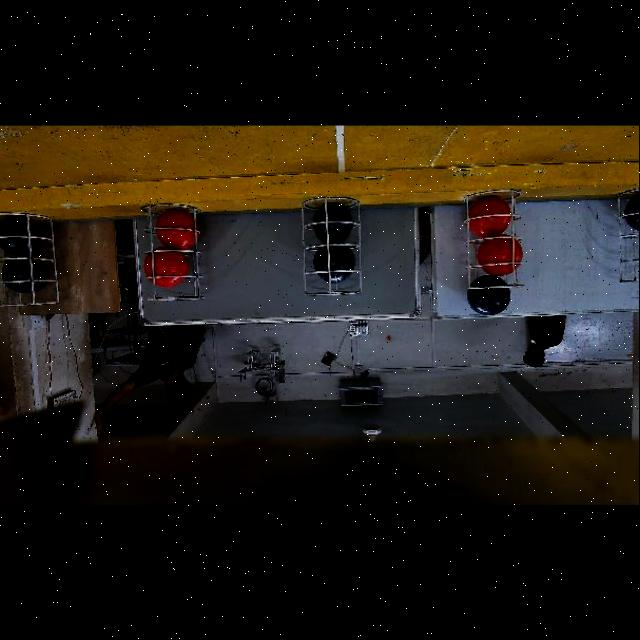P: (468, 275, 511, 316), (314, 243, 356, 284), (0, 219, 43, 258), (313, 204, 353, 245), (2, 260, 50, 293), (626, 194, 640, 232)
R: (469, 197, 512, 237), (478, 239, 523, 277), (156, 209, 196, 249), (145, 250, 188, 287)
S: (298, 198, 372, 294), (130, 208, 202, 300), (0, 207, 62, 313), (464, 193, 528, 294), (614, 199, 640, 285)
